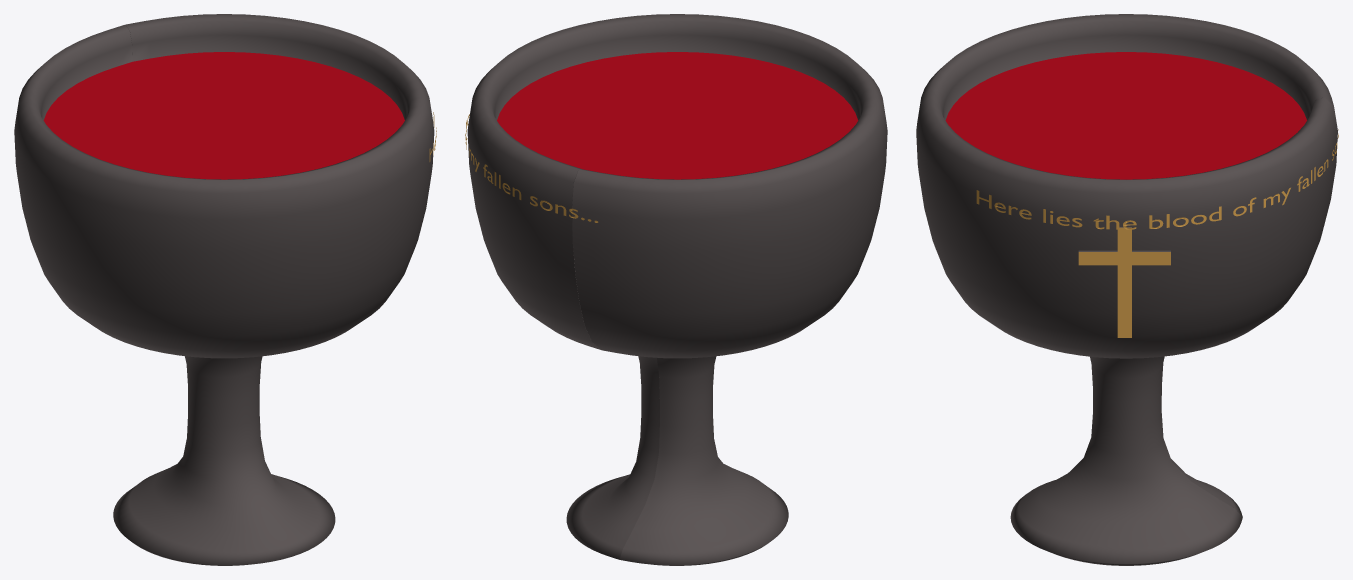
The model's file is copa.fbx.
The picture shows the model from 3 angles, left to right: view 1: azimuth 30°, elevation 25°; view 2: azimuth 150°, elevation 25°; view 3: azimuth 270°, elevation 25°; orthographic projection.
Visible parts, largest first — view 1: Cube; view 2: Cube, Text; view 3: Cube, Text.
Part boxes in pixels (x1,y1,x2,y2): Cube: (14, 14, 434, 565); Cube: (467, 14, 887, 565); Text: (465, 114, 598, 222); Cube: (916, 14, 1337, 565); Text: (976, 129, 1338, 229).
Size of the model in its own units: 393 by 438 by 393.
